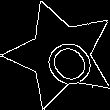O_NW: (27, 22, 94, 88)
